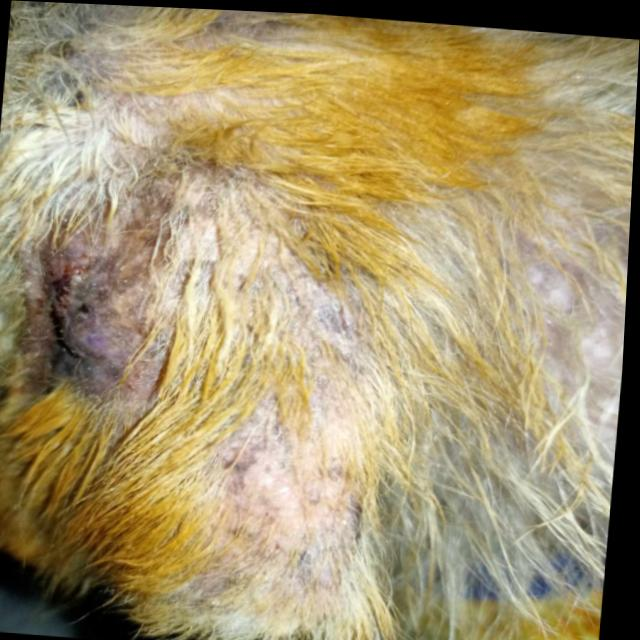demodicosis: (13, 196, 217, 406), (183, 404, 357, 604)
